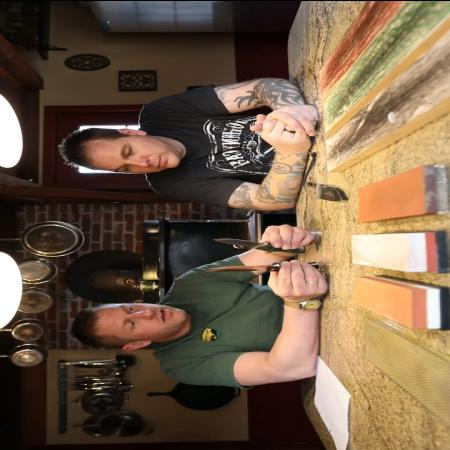long weapon: (194, 261, 298, 293), (204, 220, 296, 255)
